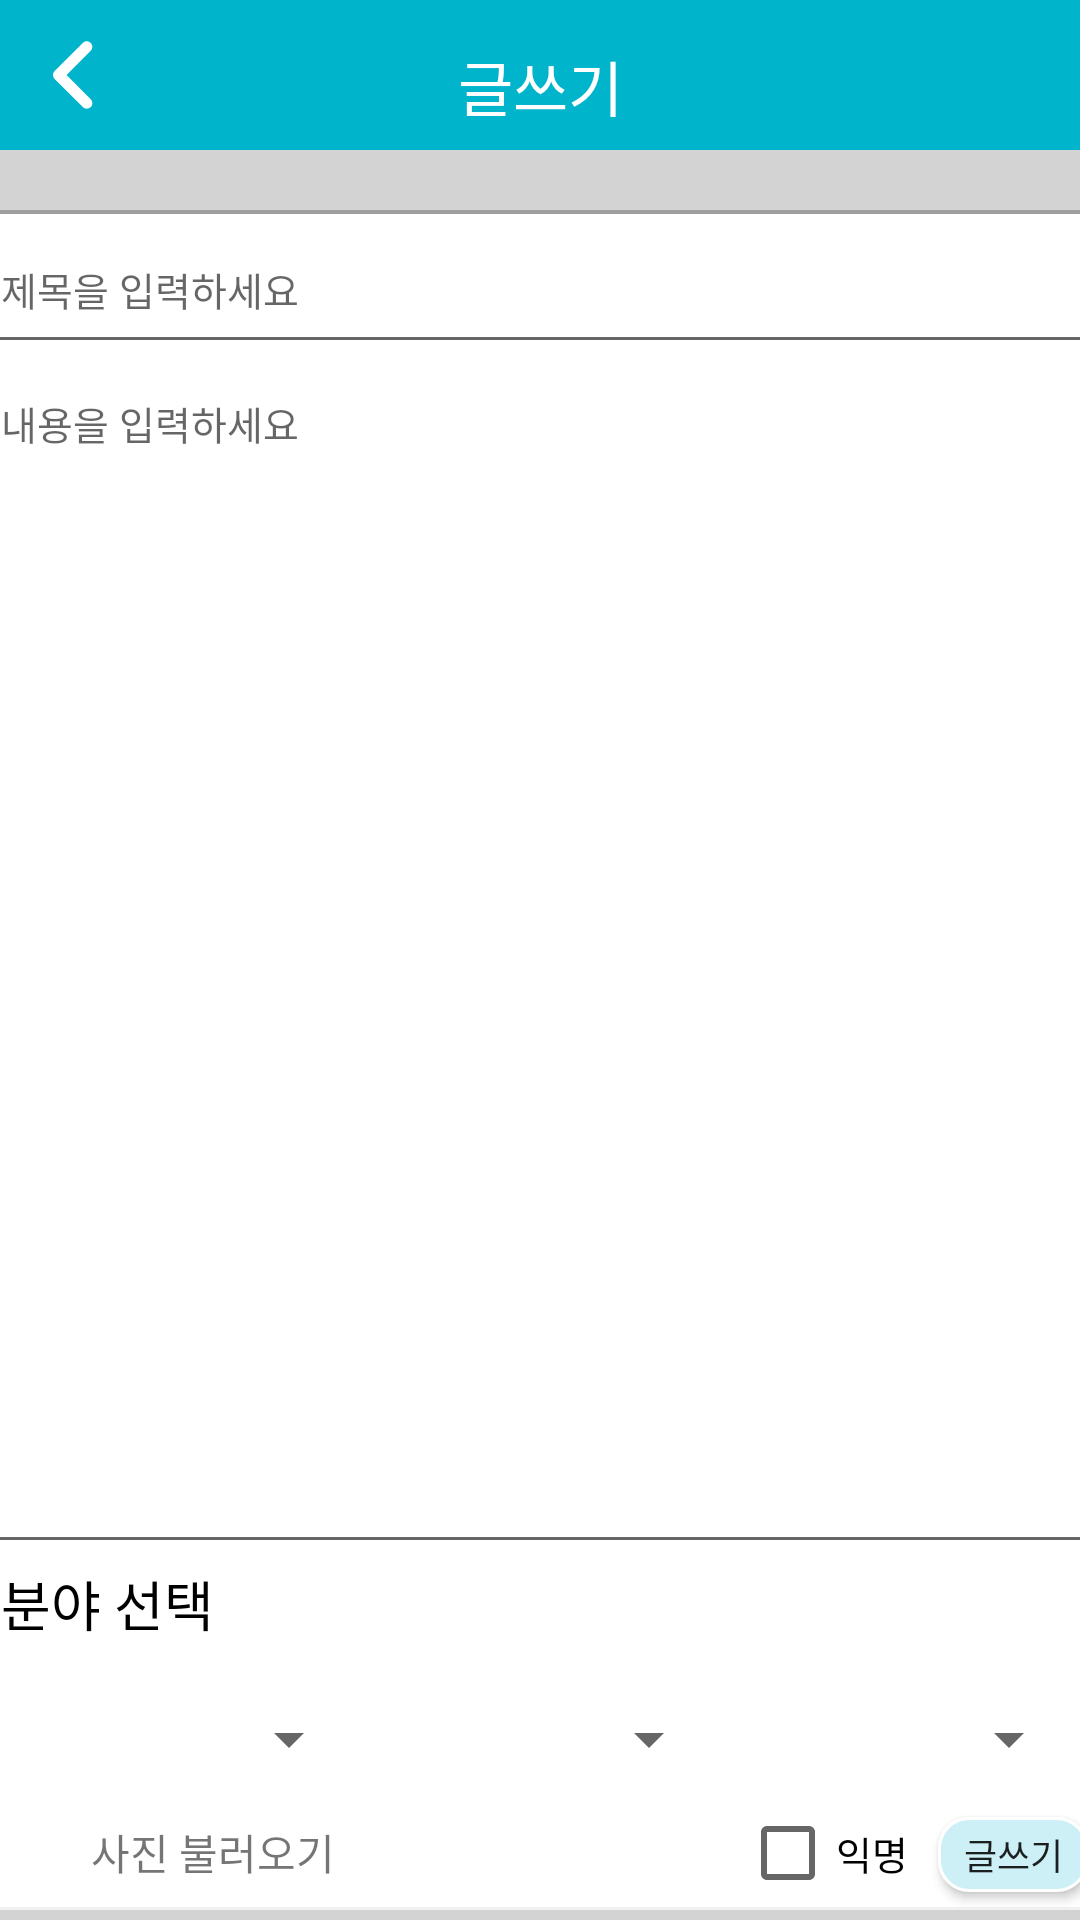

Point at icon controls on the screen. Image size 1080*1920, points as [x,y].
angle left: [73,75]
